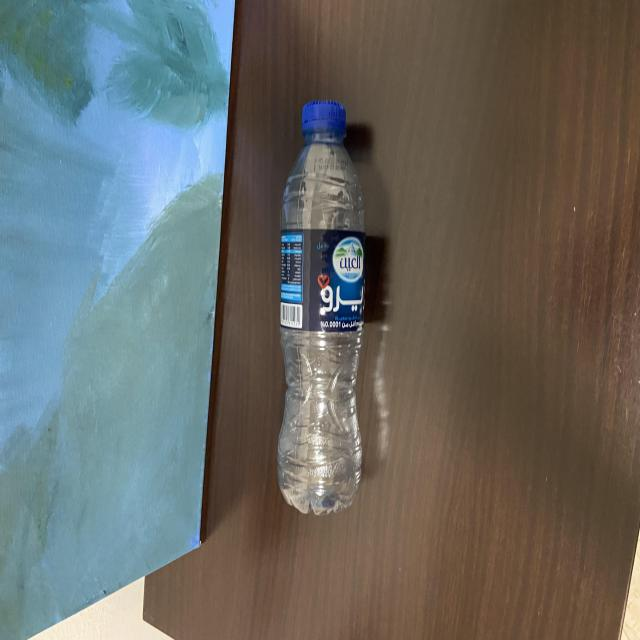bottle: (268, 86, 375, 532)
